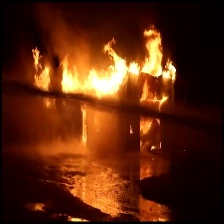fire: (29, 26, 178, 96), (133, 82, 166, 150)
smoke: (46, 5, 110, 58), (35, 109, 112, 153)
